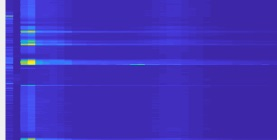leak: (19, 81, 68, 133), (16, 1, 45, 23)
